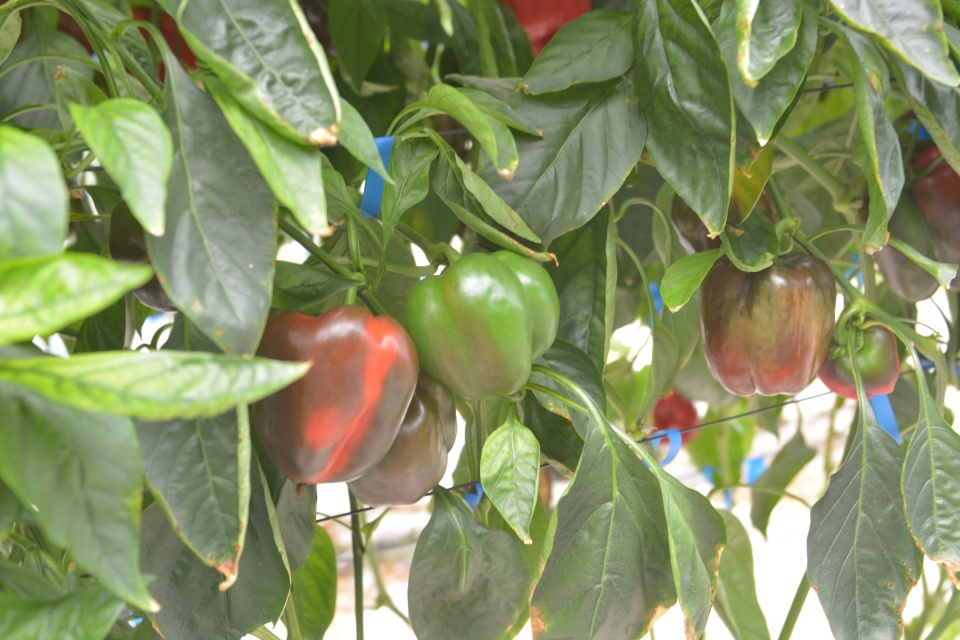fruit: (244, 300, 423, 488), (404, 245, 564, 400), (697, 248, 837, 397), (858, 142, 960, 304), (346, 367, 460, 508), (107, 200, 179, 314), (815, 312, 901, 400), (498, 0, 591, 60), (650, 383, 700, 452)
pedicle: (828, 327, 864, 358)
